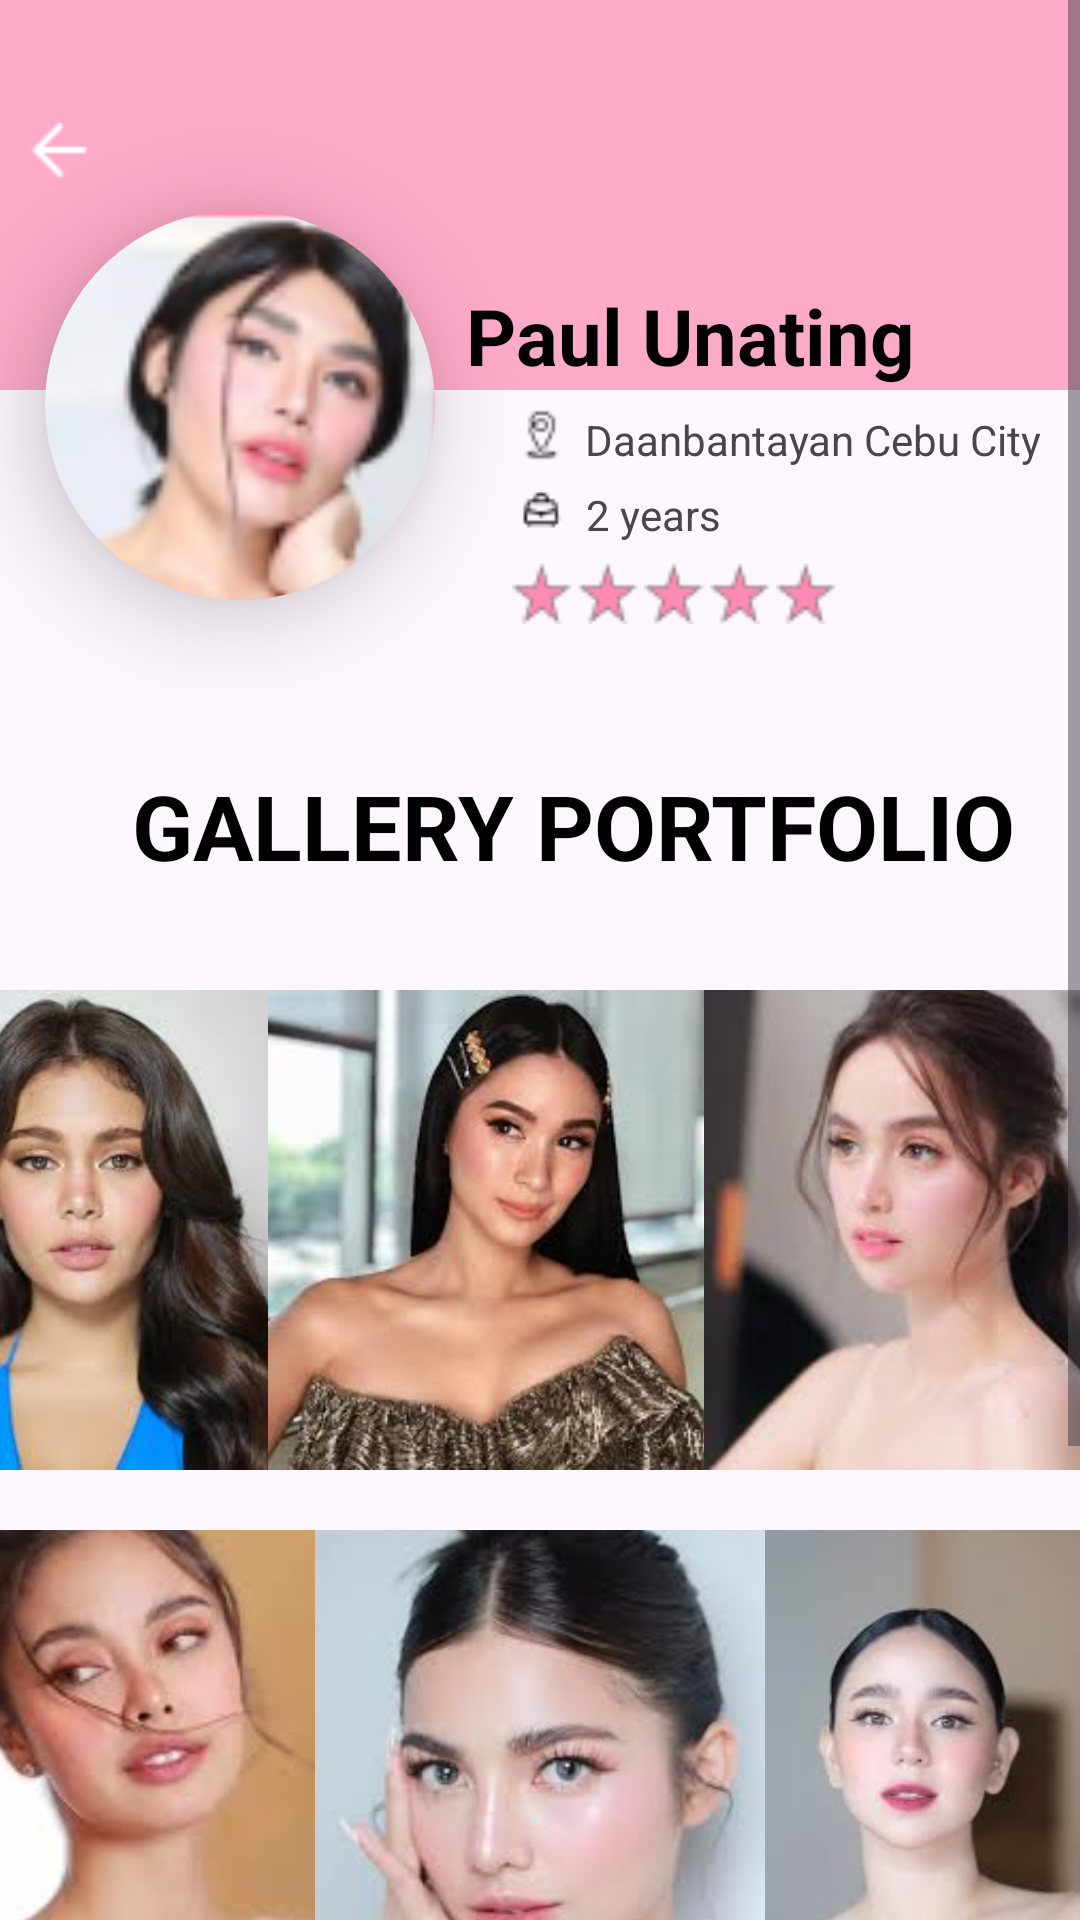

Where icons sit on this 1080w x 1920h app screen, as (x1, y1, x2, y2):
bag: (523, 492, 560, 528)
loc: (525, 411, 558, 459)
star: (512, 564, 572, 624), (578, 564, 638, 624), (644, 564, 704, 624), (710, 564, 770, 624), (776, 564, 836, 624)
